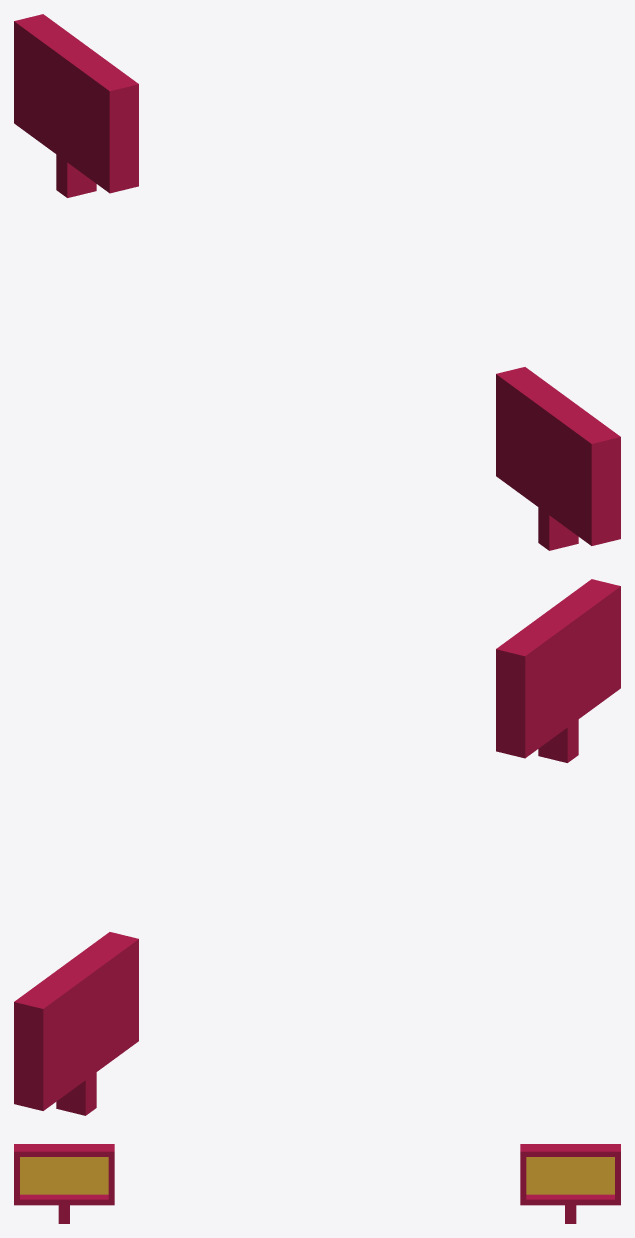
Rendered from FrontLights2.glb.
The picture shows the model from 3 angles, top to bottom: view 1: azimuth 30°, elevation 25°; view 2: azimuth 150°, elevation 25°; view 3: azimuth 270°, elevation 25°; orthographic projection. The views are drawn at different scales.
Parts seen in each view (by area): view 1: Cube.064; view 2: Cube.064; view 3: Cube.064.
Part boxes in pixels (box(x1,y1,x2,y2)): Cube.064: box(14, 14, 620, 550); Cube.064: box(14, 579, 620, 1115); Cube.064: box(14, 1144, 620, 1223).
Size of the model in its own units: 0.00129 by 0.00581 by 0.0441.
Materials: 1 (1 with a texture image).
